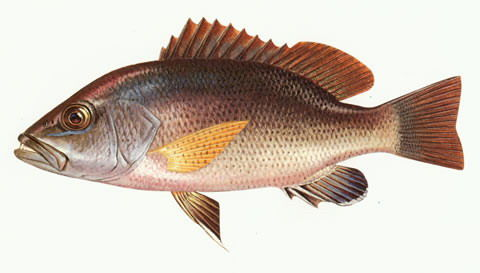fish: (13, 14, 464, 252)
